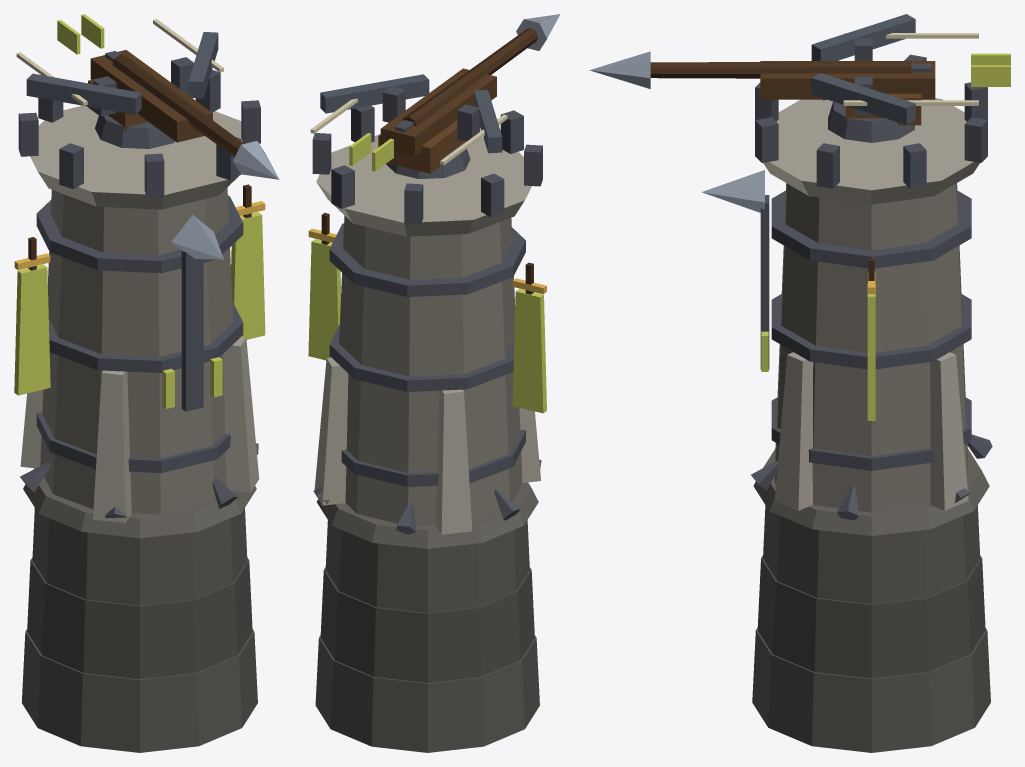
Rendered from tower_arrow_l3_pierce.glb.
3 views of the same model, side by side, from view 1: azimuth 30°, elevation 25°; view 2: azimuth 150°, elevation 25°; view 3: azimuth 270°, elevation 25° (orthographic). The views are drawn at different scales.
Parts seen in each view (by area): view 1: Body, Turret; view 2: Body, Turret; view 3: Body, Turret.
Boxes of the visible parts, box(x1,y1,x2,y2) form: Body: box(14, 69, 265, 752); Turret: box(16, 14, 279, 179); Body: box(308, 105, 546, 752); Turret: box(310, 14, 560, 178); Body: box(701, 54, 992, 752); Turret: box(589, 14, 1010, 142).
Bounding box in the file's own units: 0.725 × 1.79 × 1.06.
